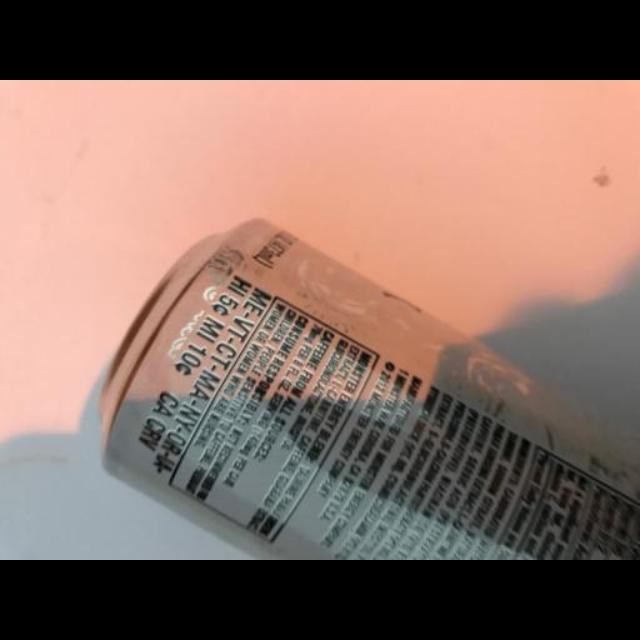lata: (100, 217, 640, 558)
